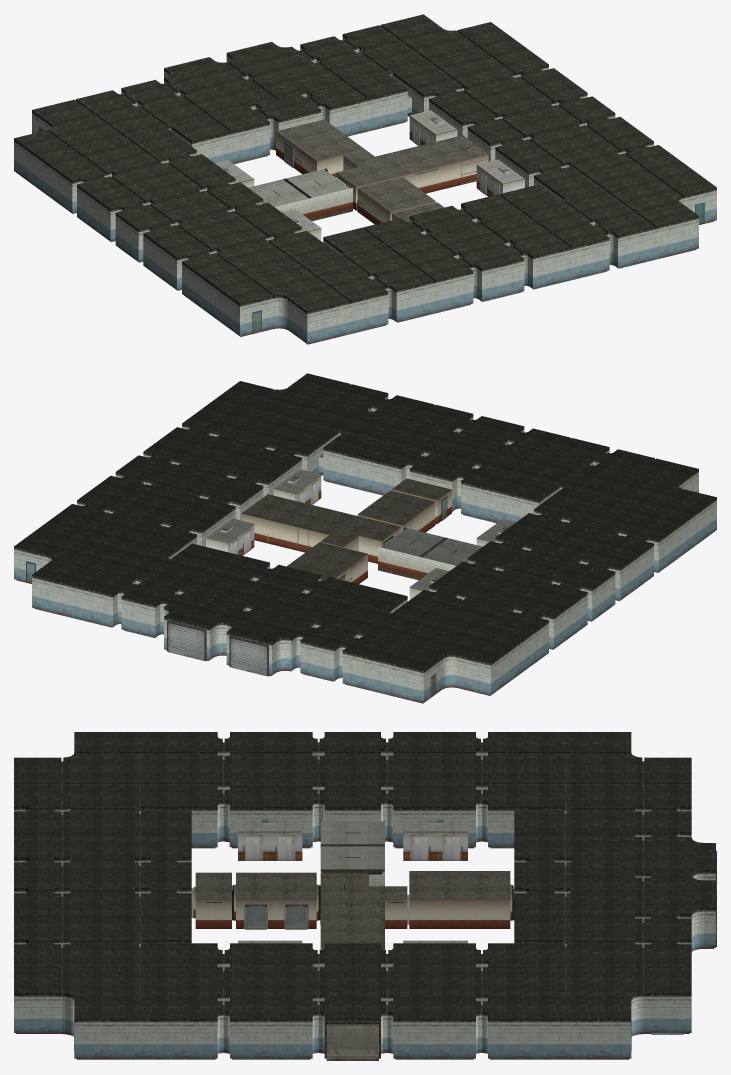
The model's file is gm_car_park-compressed.glb.
3 views of the same model, one above another, from view 1: azimuth 30°, elevation 25°; view 2: azimuth 150°, elevation 25°; view 3: azimuth 270°, elevation 25° (orthographic). The views are drawn at different scales.
Parts seen in each view (by area): view 1: zma_carpark_b2objcleanermaterialmergergles; view 2: zma_carpark_b2objcleanermaterialmergergles; view 3: zma_carpark_b2objcleanermaterialmergergles.
Boxes of the visible parts, x1,y1,x2,y2 form: zma_carpark_b2objcleanermaterialmergergles: (14,14,716,344); zma_carpark_b2objcleanermaterialmergergles: (14,373,716,703); zma_carpark_b2objcleanermaterialmergergles: (14,732,716,1060).
Size of the model in its own units: 68.64 by 5.33 by 71.09.
Materials: 87 (87 with a texture image).
